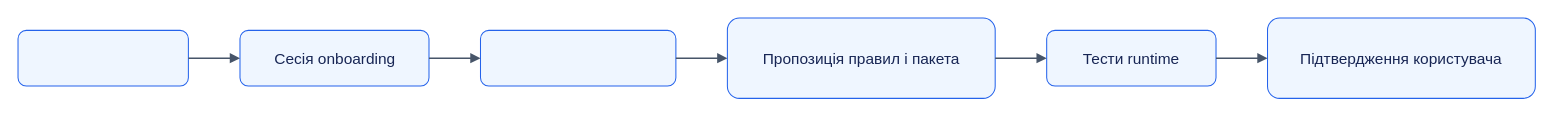
Image size: 1554x116. Some labels were removed from this diagram. The shapes that lost their labels are listed below. From the top down, each one's centre as x and y in pixels, then its label:
At point (102, 57): "Назва або URL".
At point (577, 57): "Пробні матеріали".
